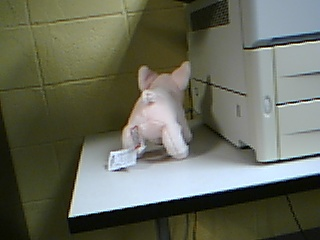piggy: (121, 60, 194, 161)
